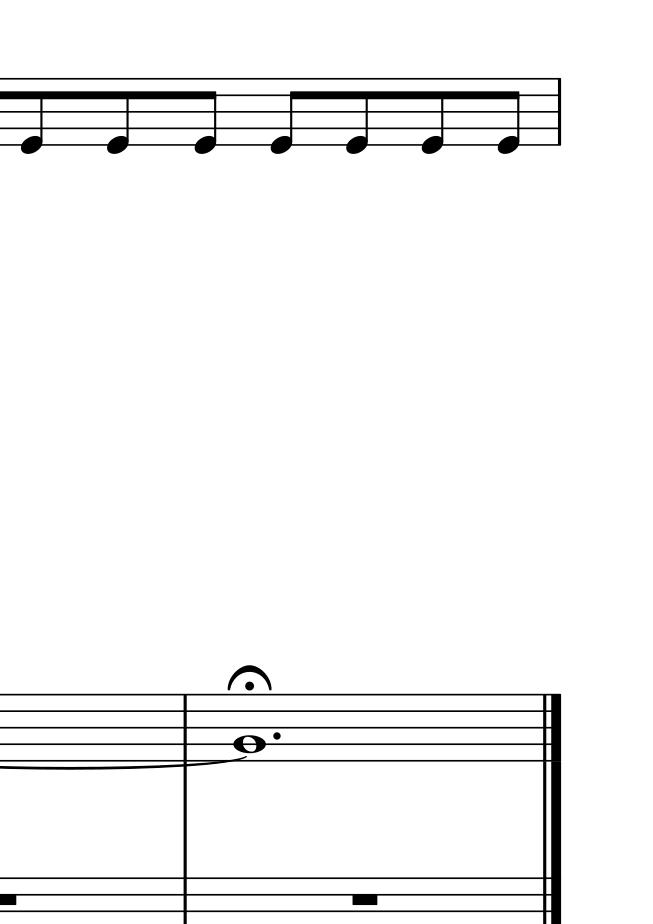1_2: (232, 693, 266, 763)
8_0: (269, 78, 301, 156), (192, 76, 220, 157), (419, 77, 447, 157), (104, 78, 132, 157), (19, 76, 46, 156), (343, 77, 370, 157), (495, 77, 522, 157)
Fermata_above: (227, 662, 274, 692)
Final_barline: (538, 693, 565, 761), (538, 877, 562, 922)
Rests1: (347, 890, 382, 909)
Single_barline: (552, 79, 567, 147), (176, 696, 192, 759), (177, 877, 193, 923)
dot: (270, 728, 283, 742)
